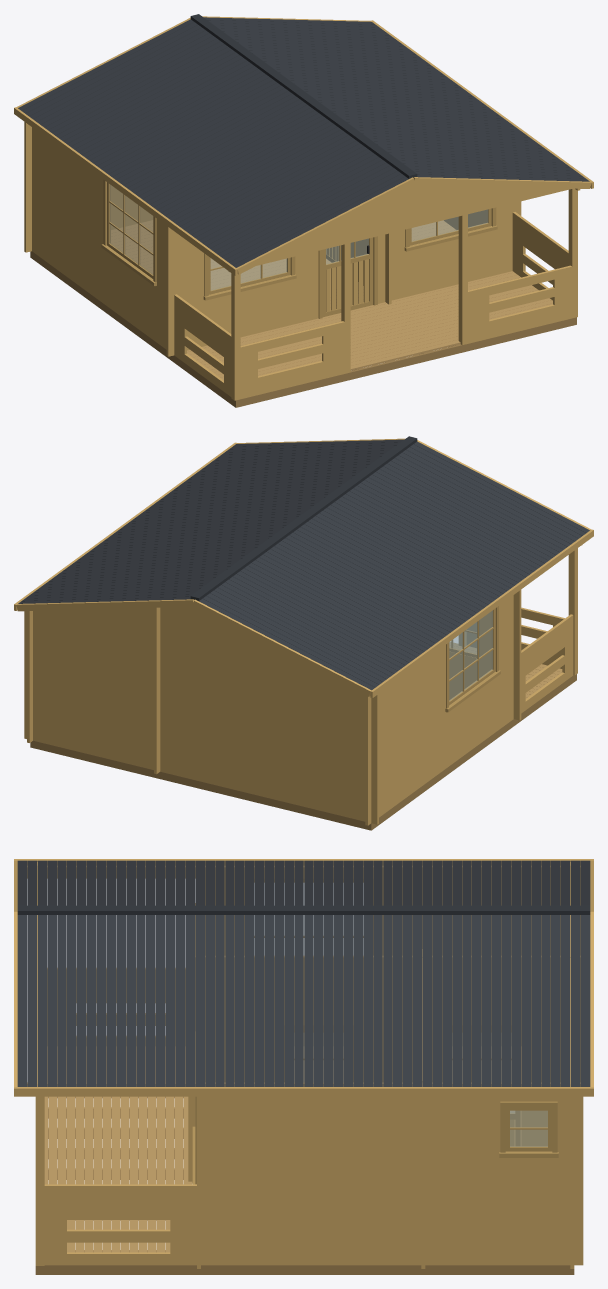
Rendered from терция_6_6_2_44_мм_встроенная_терраса (1).glb.
3 renders of one model, top to bottom at view 1: azimuth 30°, elevation 25°; view 2: azimuth 150°, elevation 25°; view 3: azimuth 270°, elevation 25°, orthographic. The views are drawn at different scales.
Visible parts, largest first — view 1: roof, walls, floor, Терция 6×6,2 (44 мм, встроенная терраса), object 98, object 28, object 41; view 2: roof, walls, Терция 6×6,2 (44 мм, встроенная терраса), object 98; view 3: roof, walls, floor, Терция 6×6,2 (44 мм, встроенная терраса), object 111.
Boxes of the visible parts, bbox=[...] form: roof: bbox=[14, 14, 593, 275]; walls: bbox=[24, 122, 580, 400]; floor: bbox=[111, 220, 552, 380]; Терция 6×6,2 (44 мм, встроенная терраса): bbox=[30, 251, 576, 407]; object 98: bbox=[110, 185, 152, 274]; object 28: bbox=[211, 258, 286, 290]; object 41: bbox=[412, 209, 487, 241]; roof: bbox=[14, 436, 593, 697]; walls: bbox=[24, 545, 581, 825]; Терция 6×6,2 (44 мм, встроенная терраса): bbox=[30, 674, 576, 830]; object 98: bbox=[449, 610, 492, 700]; roof: bbox=[14, 859, 593, 1096]; walls: bbox=[27, 862, 583, 1268]; floor: bbox=[44, 1046, 521, 1252]; Терция 6×6,2 (44 мм, встроенная терраса): bbox=[35, 1097, 574, 1274]; object 111: bbox=[510, 1111, 547, 1146].
Bounding box in the file's own units: 6.05 × 3.16 × 6.46.
